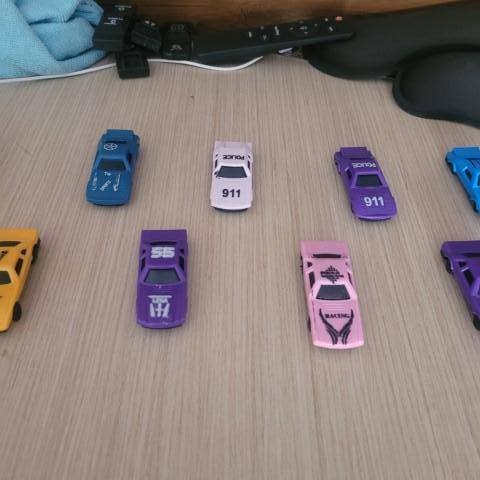car: (296, 234, 370, 349), (135, 226, 192, 331), (331, 141, 401, 221), (82, 127, 144, 207), (208, 137, 257, 212)
